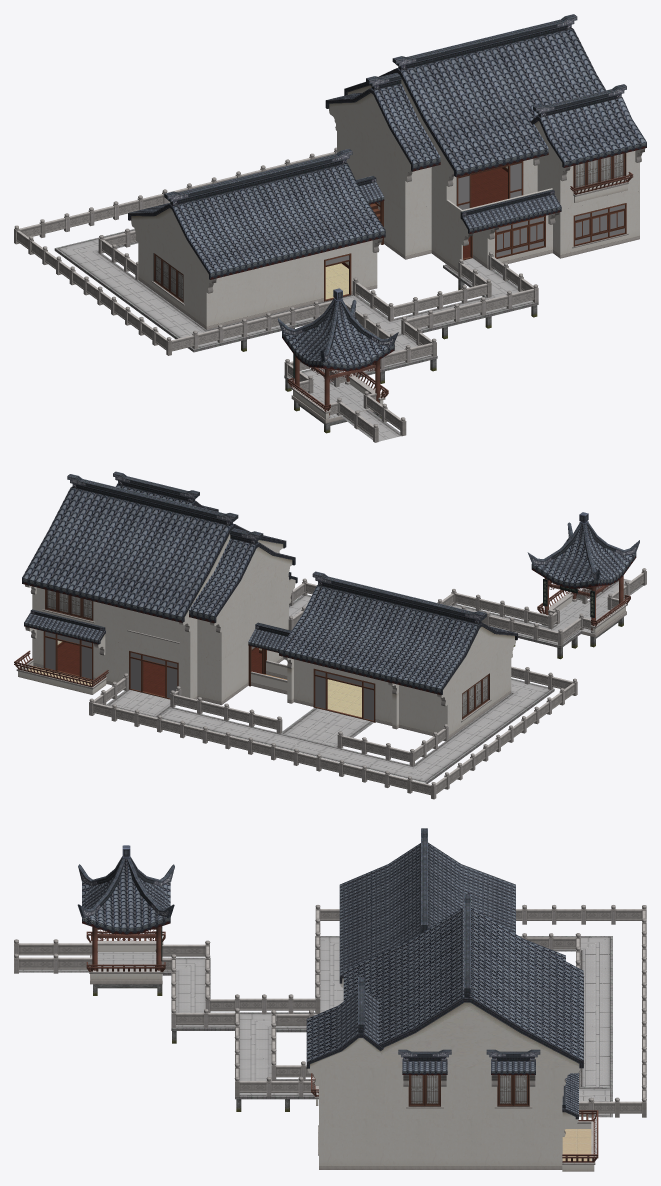
The model's file is house_0130003.FBX.
The picture shows the model from 3 angles, top to bottom: view 1: azimuth 30°, elevation 25°; view 2: azimuth 150°, elevation 25°; view 3: azimuth 270°, elevation 25°; orthographic projection. The views are drawn at different scales.
Parts seen in each view (by area): view 1: house_0130003_floor_100_lg, house_0130003_roof_206_00, house_0130003_roof_100_00, house_0130003_outwall_100_14, house_0130003_outwall_200_02, house_0130003_outwall_100_13, house_0130003_floor_205_00, house_0130003_floor_203_00, house_0130003_outwall_100_07, house_0130003_floor_103_00, house_0130003_floor_105_00, house_130003_innerwall_200_00 (+8 smaller); view 2: house_0130003_floor_100_lg, house_0130003_roof_206_00, house_0130003_roof_100_00, house_0130003_outwall_100_12, house_0130003_outwall_200_05, house_0130003_outwall_200_02, house_0130003_floor_100_01 (×2), house_0130003_outwall_100_05, house_0130003_outwall_100_13, house_0130003_floor_103_00, house_0130003_floor_104_00, house_0130003_outwall_106_02 (+6 smaller); view 3: house_0130003_floor_100_lg, house_0130003_roof_206_00, house_0130003_roof_100_00, house_0130003_outwall_100_06, house_0130003_outwall_200_06, house_0130003_floor_202_00, house_0130003_floor_100_01, house_0130003_tcx_100_09, house_0130003_tcx_200_06.
Boxes of the visible parts, left/top/right/bottom form: house_0130003_floor_100_lg: left=14, top=147, right=538, bottom=442; house_0130003_roof_206_00: left=325, top=14, right=646, bottom=186; house_0130003_roof_100_00: left=128, top=148, right=561, bottom=293; house_0130003_outwall_100_14: left=206, top=240, right=377, bottom=326; house_0130003_outwall_200_02: left=337, top=114, right=405, bottom=207; house_0130003_outwall_100_13: left=138, top=226, right=206, bottom=326; house_0130003_floor_205_00: left=456, top=161, right=523, bottom=209; house_0130003_floor_203_00: left=570, top=153, right=633, bottom=202; house_0130003_outwall_100_07: left=560, top=191, right=639, bottom=254; house_0130003_floor_103_00: left=369, top=203, right=545, bottom=258; house_0130003_floor_105_00: left=572, top=203, right=628, bottom=248; house_130003_innerwall_200_00: left=446, top=155, right=560, bottom=205; house_0130003_floor_100_lg: left=89, top=512, right=646, bottom=799; house_0130003_roof_206_00: left=22, top=471, right=295, bottom=632; house_0130003_roof_100_00: left=24, top=571, right=517, bottom=706; house_0130003_outwall_100_12: left=287, top=659, right=447, bottom=732; house_0130003_outwall_200_05: left=32, top=587, right=190, bottom=656; house_0130003_outwall_200_02: left=221, top=570, right=284, bottom=657; house_0130003_floor_100_01 (×2): left=14, top=646, right=287, bottom=694; house_0130003_outwall_100_05: left=32, top=629, right=190, bottom=697; house_0130003_outwall_100_13: left=447, top=643, right=511, bottom=735; house_0130003_floor_103_00: left=129, top=648, right=261, bottom=699; house_0130003_floor_104_00: left=43, top=631, right=93, bottom=680; house_0130003_outwall_106_02: left=313, top=668, right=375, bottom=722; house_0130003_floor_100_lg: left=14, top=845, right=646, bottom=1117; house_0130003_roof_206_00: left=306, top=893, right=583, bottom=1086; house_0130003_roof_100_00: left=339, top=828, right=578, bottom=1136; house_0130003_outwall_100_06: left=319, top=1119, right=562, bottom=1166; house_0130003_outwall_200_06: left=319, top=1067, right=562, bottom=1115; house_0130003_floor_202_00: left=406, top=1075, right=563, bottom=1108; house_0130003_floor_100_01: left=562, top=1110, right=598, bottom=1171; house_0130003_tcx_100_09: left=319, top=1166, right=562, bottom=1169; house_0130003_tcx_200_06: left=319, top=1115, right=562, bottom=1118.
Size of the model in its own units: 2989 by 1096 by 3142.
Materials: 108 (107 with a texture image).
